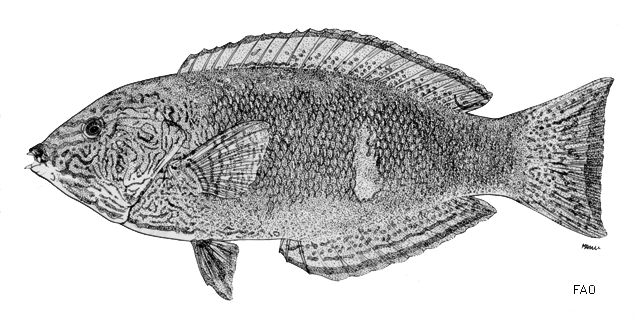fish: (26, 30, 614, 300)
